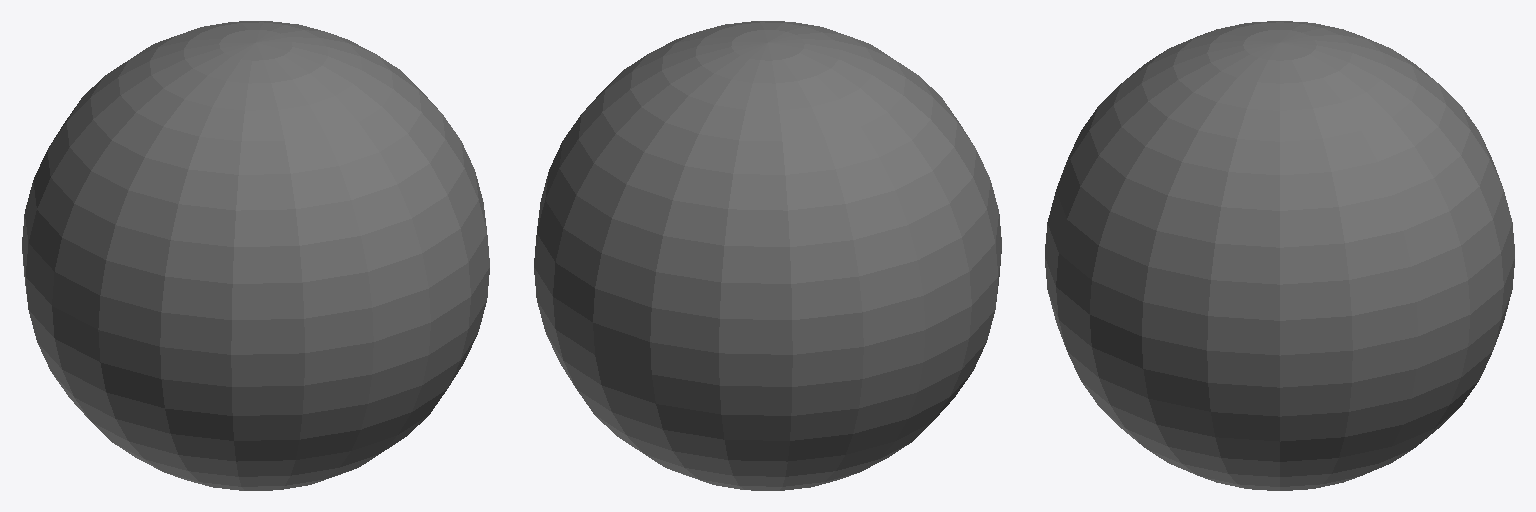
The model's file is ball.obj.
The picture shows the model from 3 angles: view 1: azimuth 30°, elevation 25°; view 2: azimuth 150°, elevation 25°; view 3: azimuth 270°, elevation 25°; orthographic projection.
Parts seen in each view (by area): view 1: ball1:pSphere1; view 2: ball1:pSphere1; view 3: ball1:pSphere1.
Part boxes in pixels (left/top/right/bottom): ball1:pSphere1: left=22, top=21, right=489, bottom=490; ball1:pSphere1: left=534, top=21, right=1001, bottom=490; ball1:pSphere1: left=1045, top=21, right=1514, bottom=490.
Bounding box in the file's own units: 1.03 × 1.03 × 1.03.